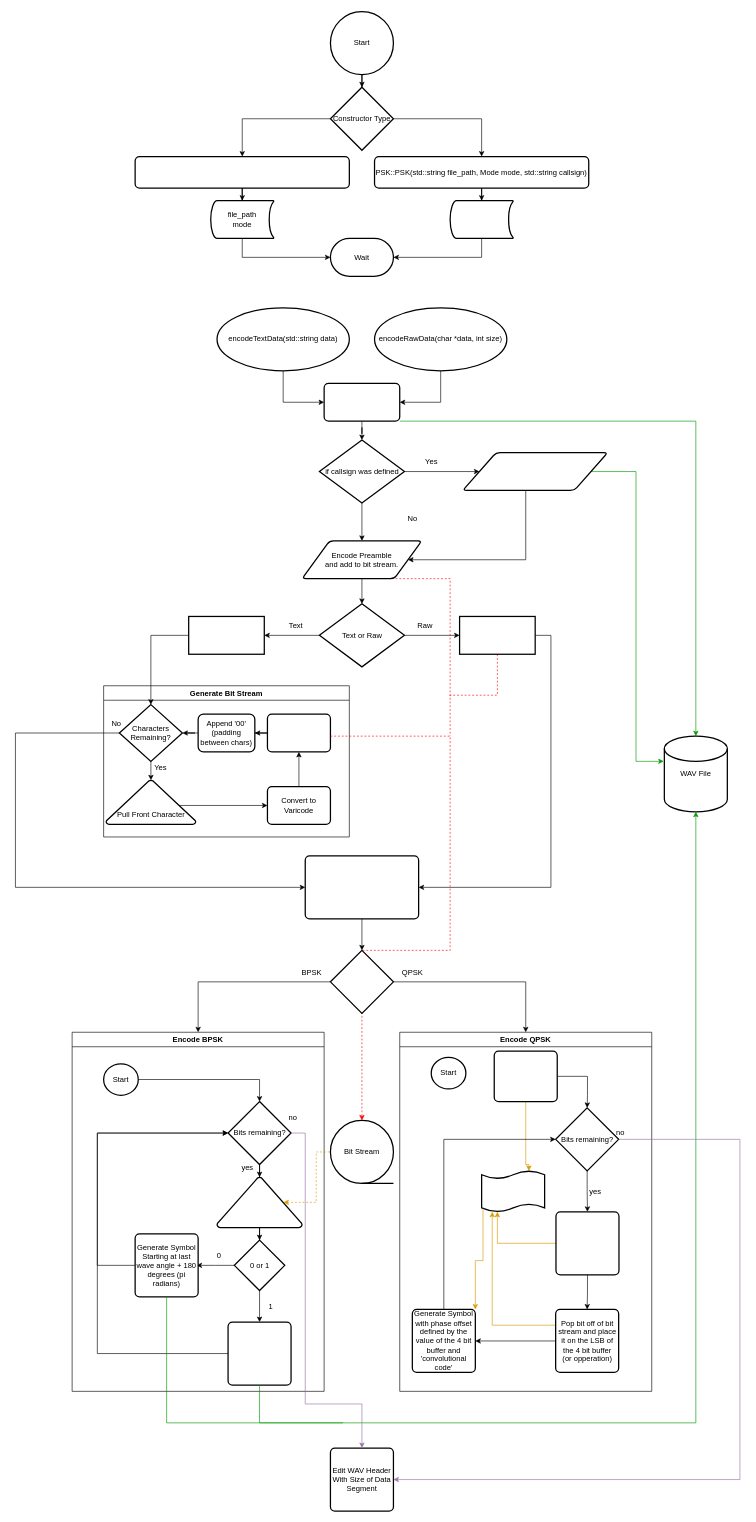
This 756x1522 diagram has some shape labels left out. The shapes that lost their labels are listed below. From the top down, each one's centre as x and y in pixels, then its label:
(x=242, y=172): PSK::PSK(std::string file_path, Mode mode)
(x=481, y=219): file_path mode callsign
(x=361, y=401): open wav file at file_path
(x=535, y=471): add callsign in morse format
(x=226, y=635): text data
(x=497, y=635): Send Raw Data to Bit Stream Directly
(x=298, y=732): Append to end of bitstream
(x=361, y=887): Add Postemble to bit stream
(x=361, y=981): mode
(x=525, y=1076): Pop Front 4 bits and place into buffer
(x=259, y=1202): Pull Bit From Front Of Bit Stream
(x=513, y=1191): 4 bit buffer
(x=587, y=1243): Left shift buffer 1 time.
(x=259, y=1353): Generate Symbol Starting at last wave angle.
